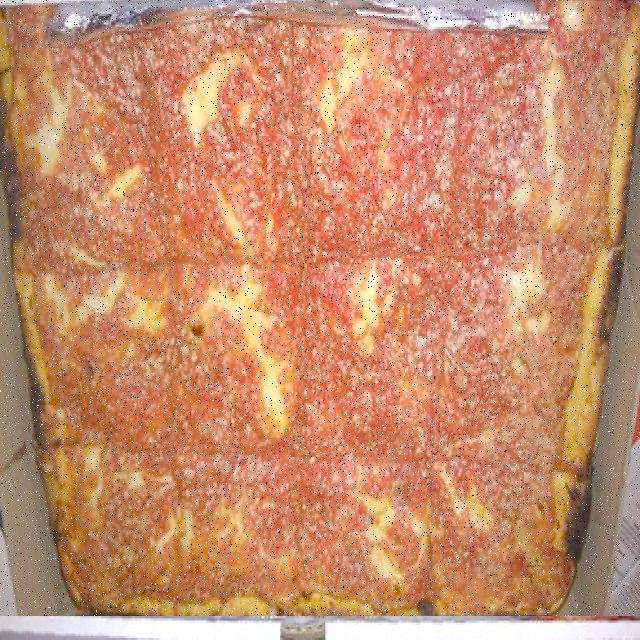Pizza: (0, 0, 640, 616)
